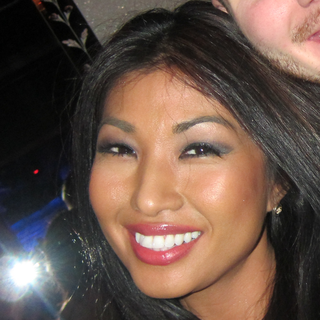eye: (175, 139, 225, 164), (96, 138, 140, 163)
